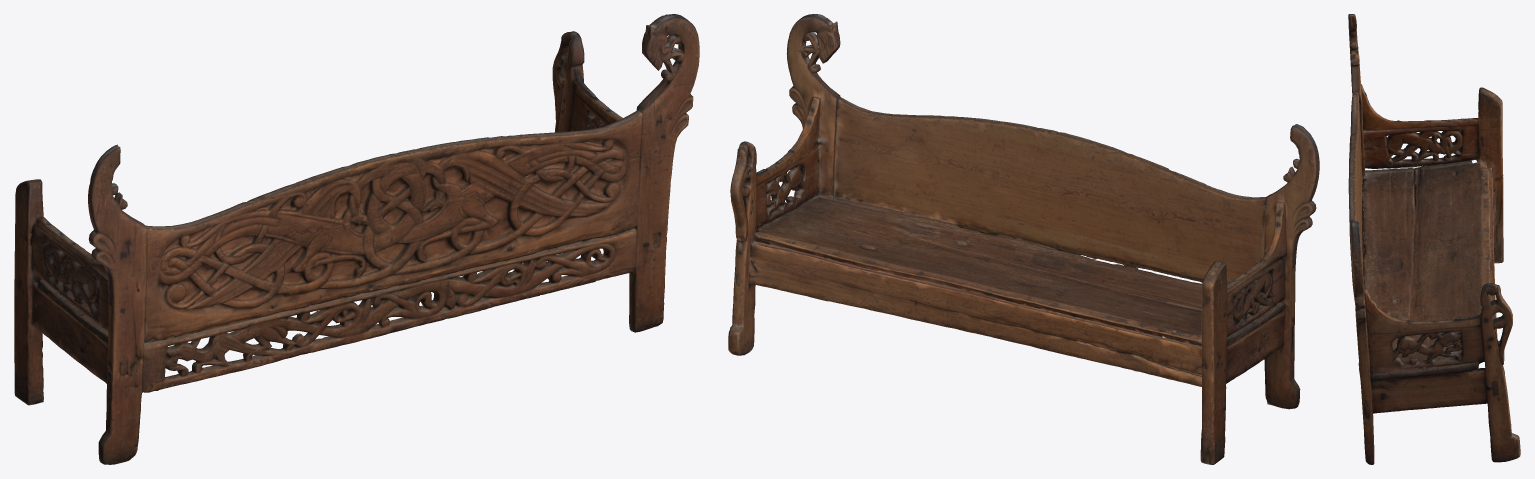
File: the_kungsara_bench.glb
The picture shows the model from 3 angles, left to right: view 1: azimuth 30°, elevation 25°; view 2: azimuth 150°, elevation 25°; view 3: azimuth 270°, elevation 25°; orthographic projection. The views are drawn at different scales.
Visible parts, largest first — view 1: Object_2; view 2: Object_2; view 3: Object_2.
Boxes of the visible parts, x1=… form: Object_2: x1=14, y1=14, x2=699, y2=464; Object_2: x1=728, y1=14, x2=1319, y2=464; Object_2: x1=1348, y1=14, x2=1520, y2=464.
Size of the model in its own units: 2.15 by 1.09 by 0.6915.
1 material, 1 textured.
